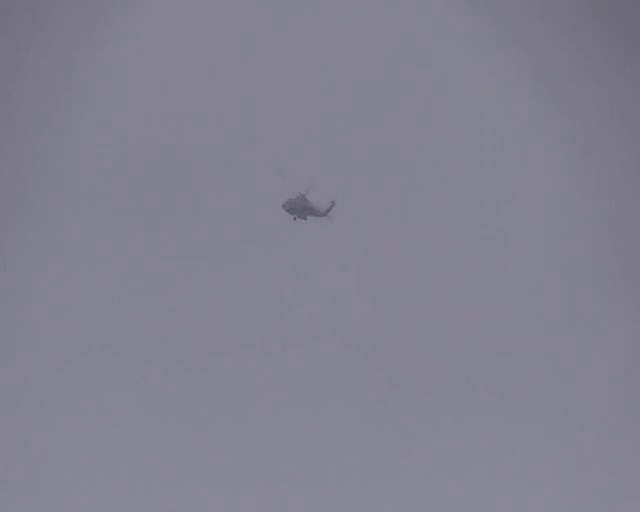HELICOPTER: (279, 189, 335, 222)
